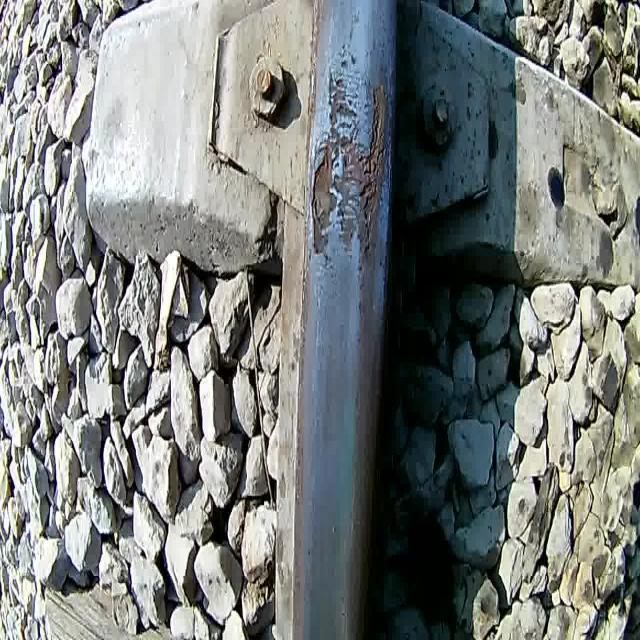Spallings: (308, 38, 391, 274)
